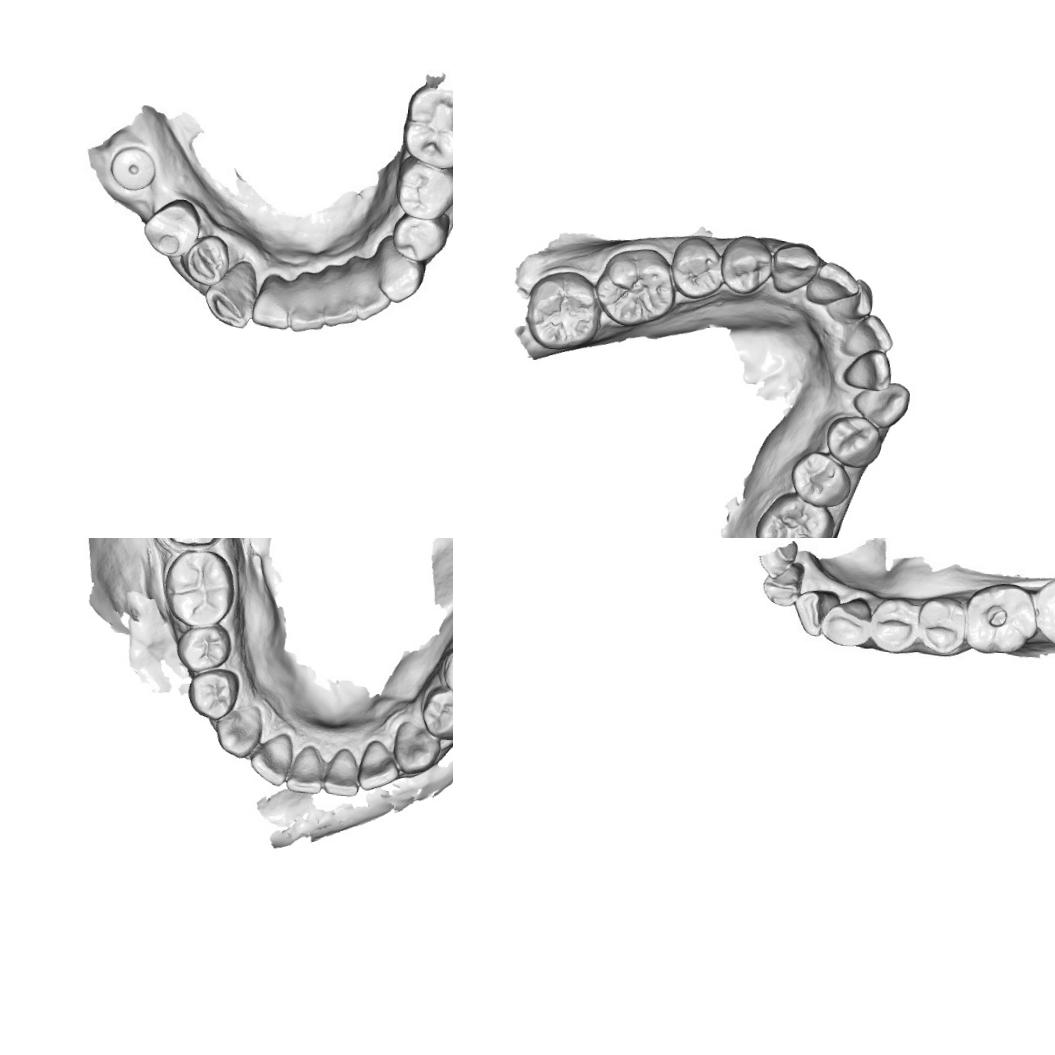canine: (204, 256, 260, 330), (378, 236, 429, 306), (212, 701, 264, 760), (850, 378, 910, 429), (822, 593, 872, 650), (394, 716, 444, 771), (770, 241, 820, 294)
implant: (107, 140, 160, 194)
incisor: (348, 258, 390, 324), (247, 729, 293, 788), (354, 737, 402, 793), (790, 586, 836, 640), (252, 268, 292, 330), (759, 558, 807, 608), (283, 742, 326, 796), (842, 348, 894, 392), (321, 266, 357, 329), (320, 744, 362, 798), (288, 272, 324, 334), (809, 260, 859, 304), (846, 312, 896, 354), (834, 276, 875, 326)
molar: (593, 244, 679, 328), (522, 267, 603, 352), (160, 547, 238, 630), (962, 582, 1038, 659), (399, 83, 453, 172), (752, 487, 837, 538), (1032, 571, 1055, 647)
premolar: (140, 194, 204, 262), (788, 449, 853, 509), (667, 234, 725, 301), (718, 233, 775, 296), (396, 159, 453, 221), (824, 412, 883, 468), (172, 622, 233, 675), (185, 665, 241, 721), (393, 211, 446, 266), (180, 235, 234, 287), (872, 597, 920, 652), (920, 600, 964, 654), (418, 688, 453, 742), (439, 641, 453, 705)
